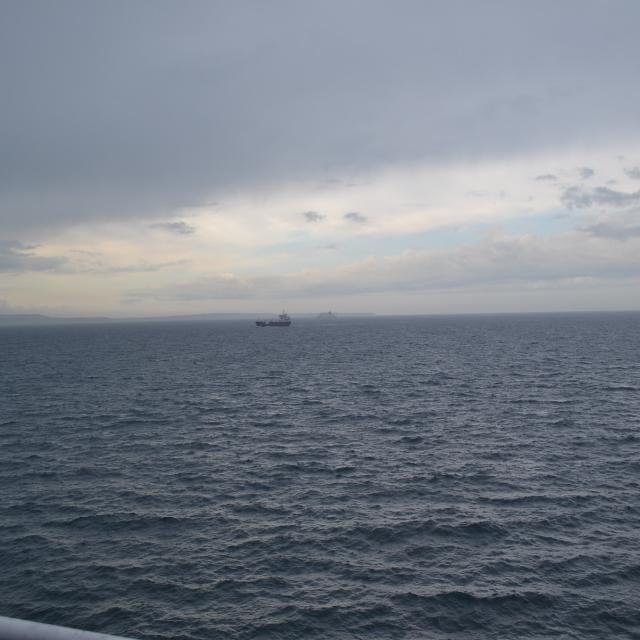cargoship: (254, 310, 292, 327)
